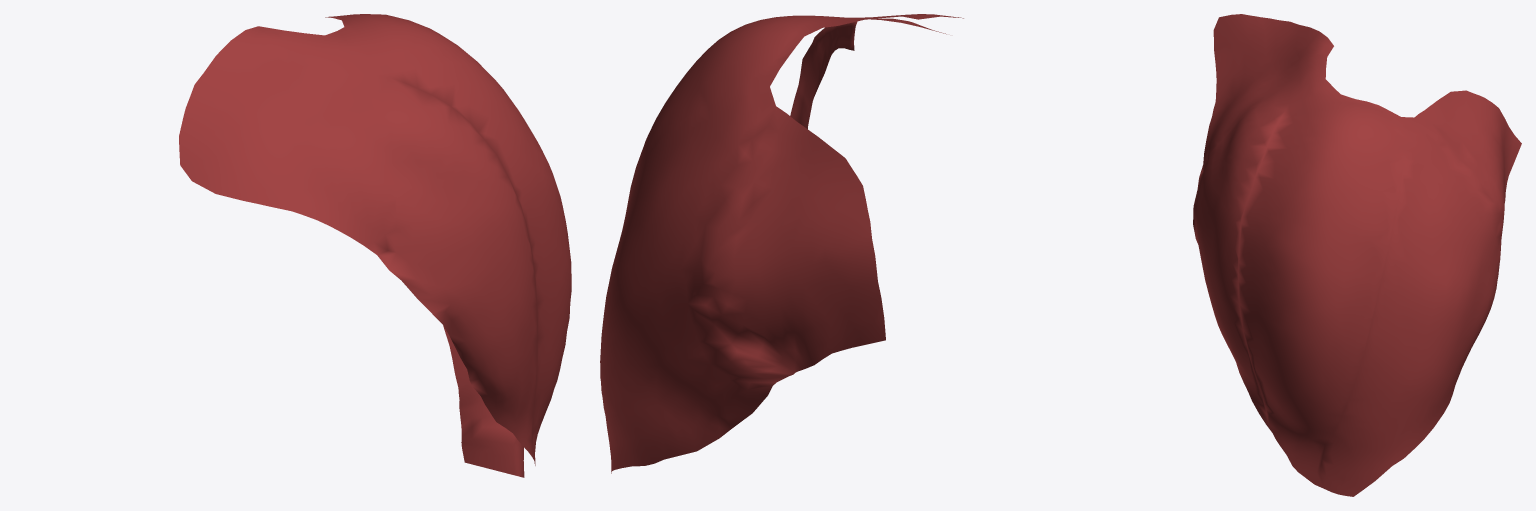
File: deltoid-fascia-l.glb
The picture shows the model from 3 angles, left to right: view 1: azimuth 30°, elevation 25°; view 2: azimuth 150°, elevation 25°; view 3: azimuth 270°, elevation 25°; orthographic projection. The views are drawn at different scales.
Parts seen in each view (by area): view 1: Deltoid fascia.l; view 2: Deltoid fascia.l; view 3: Deltoid fascia.l.
Boxes of the visible parts, left/top/right/bottom form: Deltoid fascia.l: left=179, top=14, right=571, bottom=477; Deltoid fascia.l: left=600, top=14, right=963, bottom=473; Deltoid fascia.l: left=1193, top=14, right=1521, bottom=496.
Size of the model in its own units: 0.1437 by 0.1624 by 0.1325.
